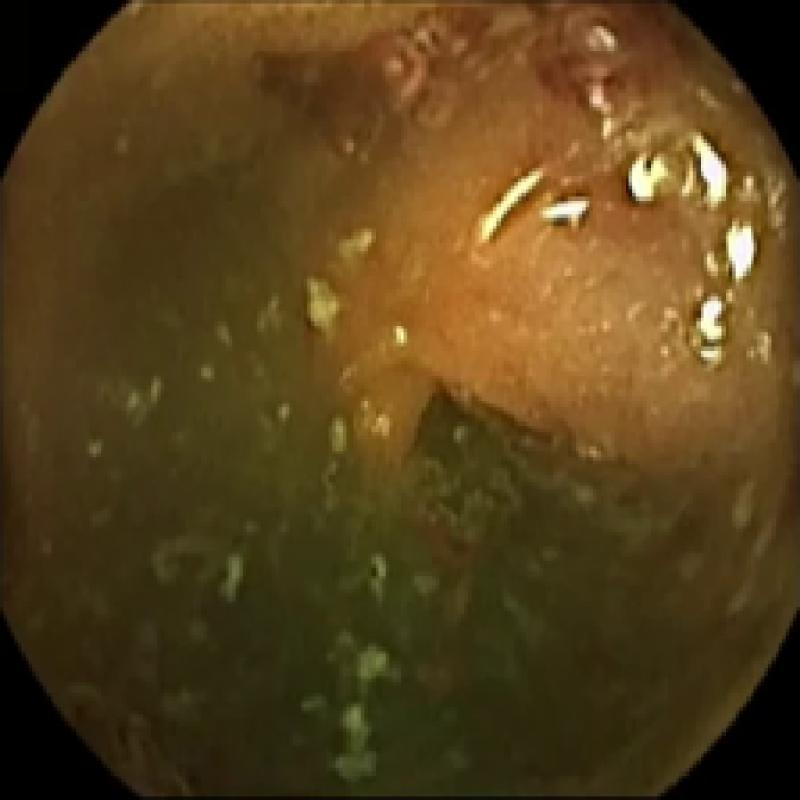bleeding: (261, 4, 668, 154)
